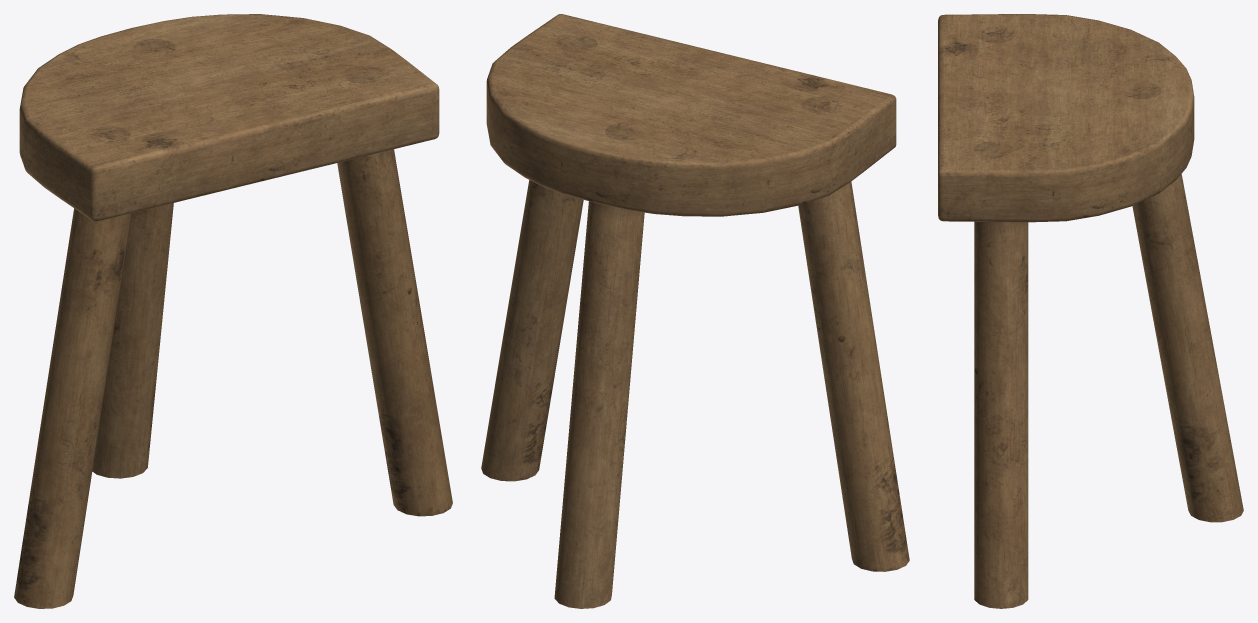
The model's file is Stool_3Legged_OBJ.obj.
The picture shows the model from 3 angles, left to right: view 1: azimuth 30°, elevation 25°; view 2: azimuth 150°, elevation 25°; view 3: azimuth 270°, elevation 25°; orthographic projection. The views are drawn at different scales.
Parts seen in each view (by area): view 1: Stool; view 2: Stool; view 3: Stool.
Part boxes in pixels (x1,y1,x2,y2): Stool: (14, 14, 452, 608); Stool: (481, 14, 909, 608); Stool: (938, 14, 1243, 608).
Bounding box in the file's own units: 2.93 × 2.91 × 1.92.
1 material, 1 textured.
